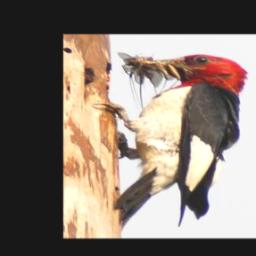Woodpecker: (94, 53, 247, 229)
